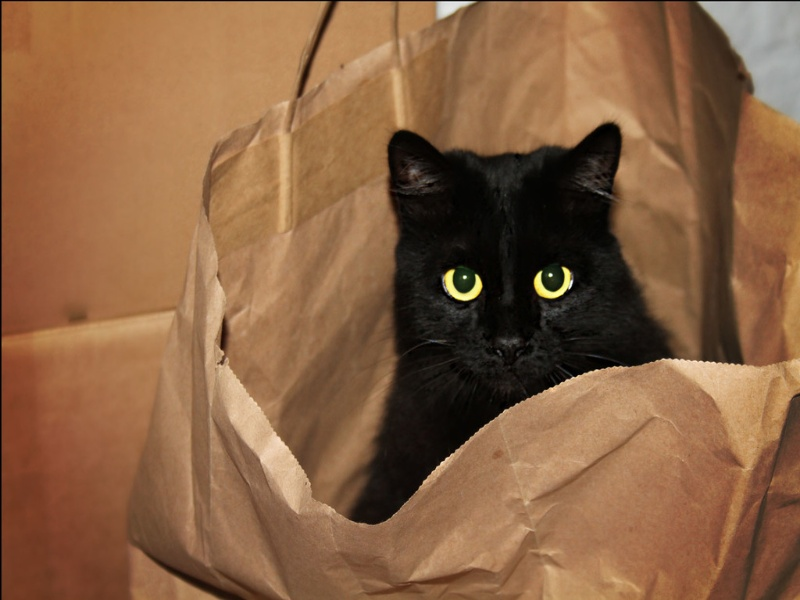cat: (334, 111, 665, 423)
